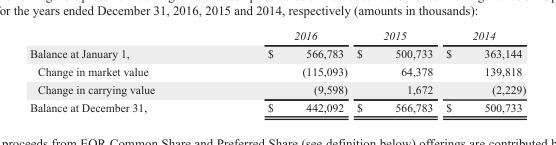table: (29, 28, 525, 113)
table column: (29, 28, 210, 113), (210, 28, 351, 113), (351, 28, 438, 113), (438, 28, 525, 113)
table column header: (29, 28, 525, 44)
table row: (29, 44, 525, 62), (29, 62, 525, 80), (29, 80, 525, 98), (29, 28, 525, 44), (29, 98, 525, 113)
